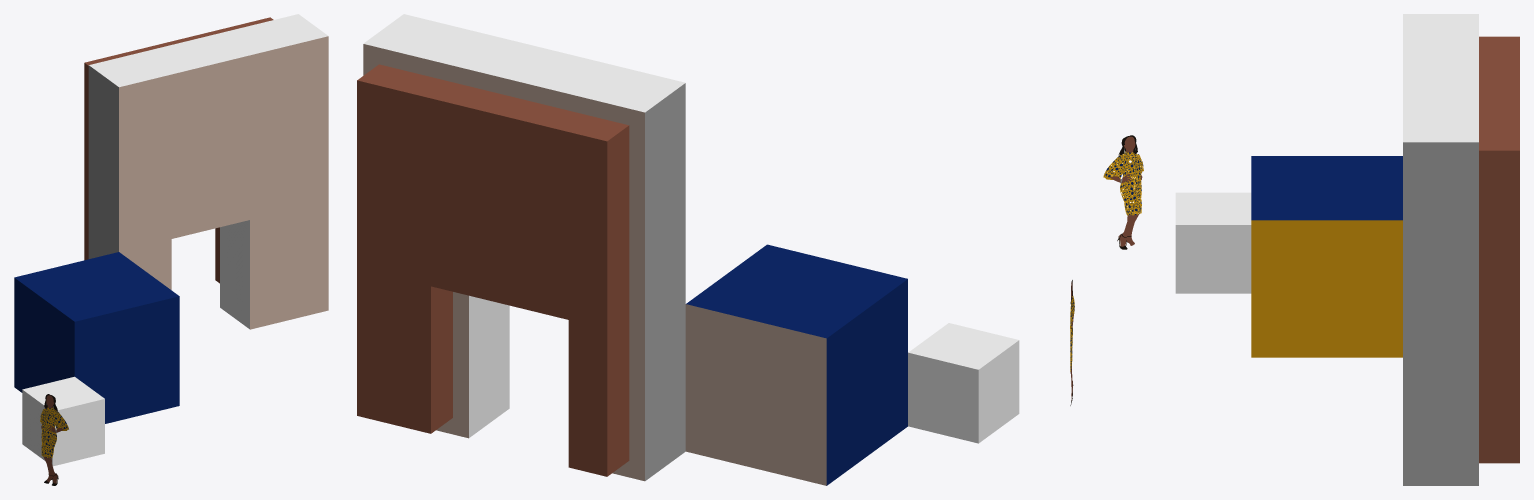
Rendered from Test cubes.obj.
3 views of the same model, side by side, from view 1: azimuth 30°, elevation 25°; view 2: azimuth 150°, elevation 25°; view 3: azimuth 270°, elevation 25° (orthographic). The views are drawn at different scales.
Parts seen in each view (by area): view 1: Mesh2 Model, Mesh1 Sumele1 Model; view 2: Mesh2 Model; view 3: Mesh2 Model, Mesh1 Sumele1 Model.
Part boxes in pixels (bbox=[...]): Mesh2 Model: bbox=[14, 14, 328, 466]; Mesh1 Sumele1 Model: bbox=[40, 394, 68, 485]; Mesh2 Model: bbox=[357, 14, 1019, 485]; Mesh2 Model: bbox=[1175, 14, 1519, 485]; Mesh1 Sumele1 Model: bbox=[1103, 135, 1143, 249].
Size of the model in its own units: 7.48 by 5 by 5.5.
